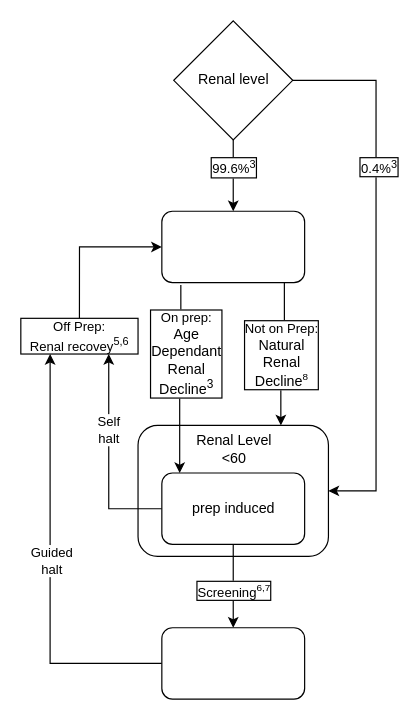
Image size: 419x720. Some labels were removed from this diagram. Each missing label, with the box of its shape:
Renal level >60: (161, 210, 305, 283)
Renal level Measured: (161, 627, 305, 699)
